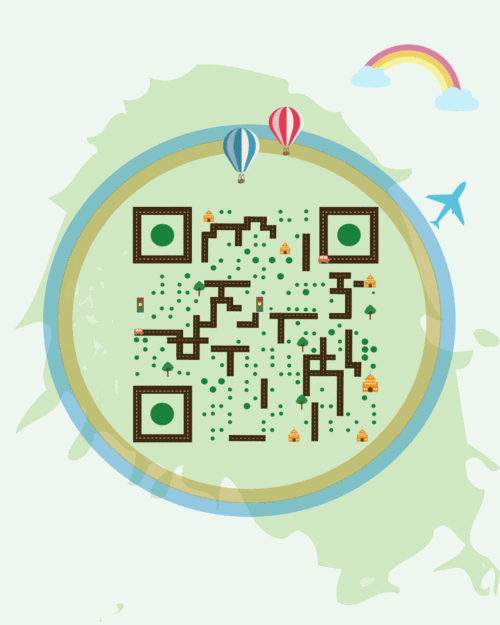QRCode: (129, 197, 388, 453)
